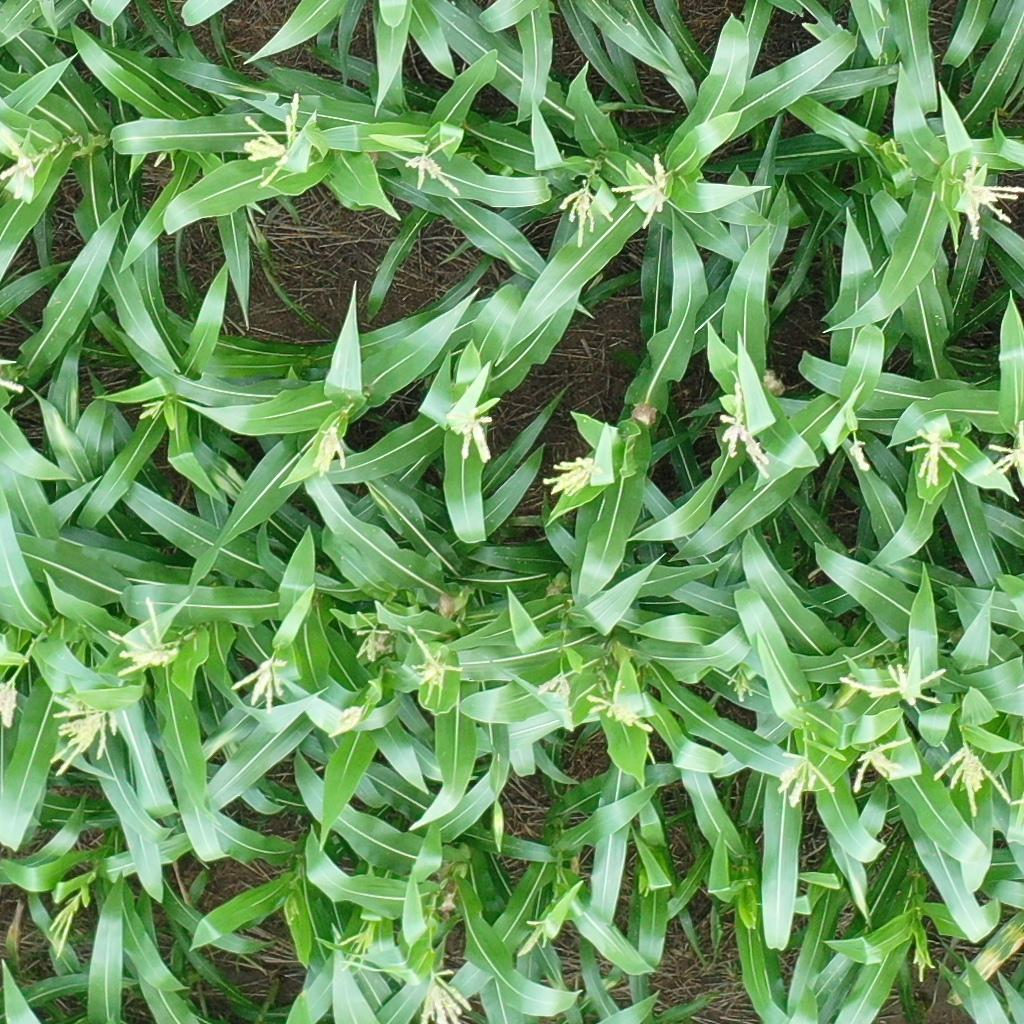Tassel: (44, 691, 121, 778), (241, 90, 304, 188), (105, 597, 178, 679), (934, 744, 1014, 816), (955, 157, 1024, 240), (838, 657, 946, 710), (714, 382, 772, 477), (612, 155, 675, 231), (403, 621, 467, 689), (584, 680, 661, 736), (851, 733, 915, 795), (403, 135, 465, 197), (903, 426, 963, 490), (559, 182, 614, 247), (777, 751, 837, 806), (231, 658, 288, 714), (537, 458, 608, 498), (46, 892, 86, 962), (424, 967, 472, 1024), (1, 127, 39, 198), (986, 421, 1024, 481), (461, 404, 499, 464), (314, 425, 352, 479), (352, 610, 390, 664), (339, 928, 375, 979), (517, 918, 553, 960), (331, 700, 364, 740), (845, 433, 877, 472), (1, 677, 24, 731), (725, 666, 757, 703), (534, 672, 573, 701), (137, 401, 167, 423), (912, 945, 930, 981), (285, 893, 301, 923)
